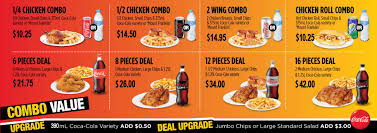coke: (89, 55, 109, 96)
